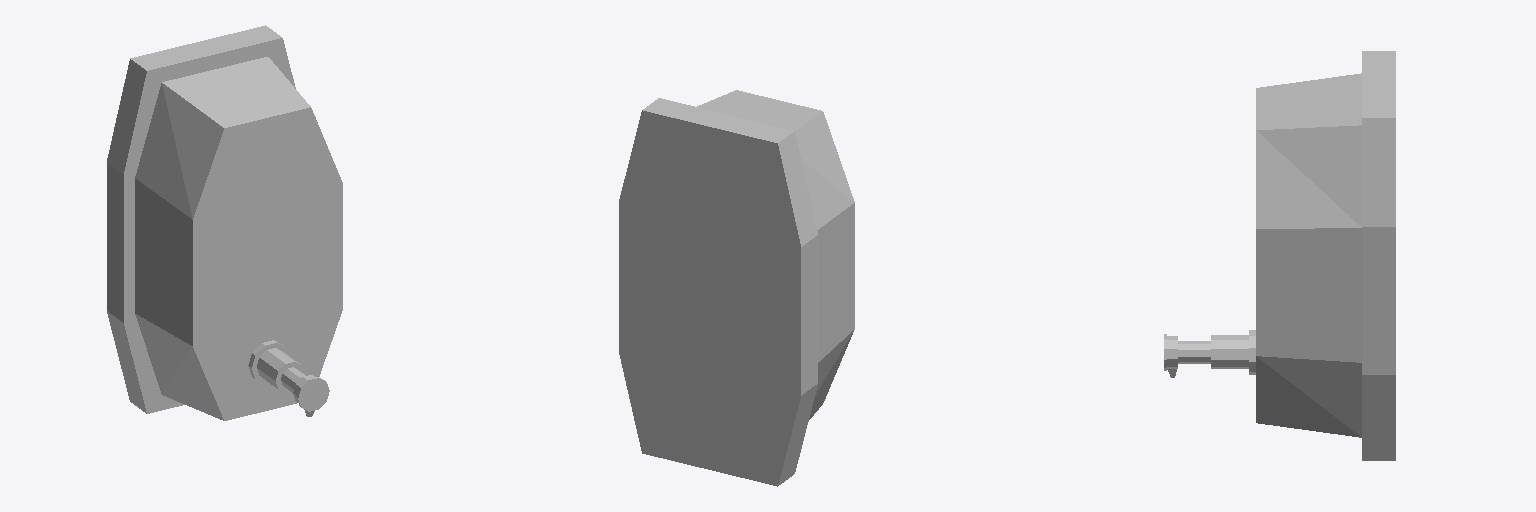
File: Kitchen_hand_soap.obj
The picture shows the model from 3 angles: view 1: azimuth 30°, elevation 25°; view 2: azimuth 150°, elevation 25°; view 3: azimuth 270°, elevation 25°; orthographic projection.
Visible parts, largest first — view 1: pCylinder2; view 2: pCylinder2; view 3: pCylinder2.
Boxes of the visible parts, box(x1,y1,x2,y2) form: pCylinder2: box(107, 25, 342, 420); pCylinder2: box(619, 90, 854, 486); pCylinder2: box(1164, 51, 1395, 460).
Bounding box in the file's own units: 8.86 × 15.91 × 9.75.